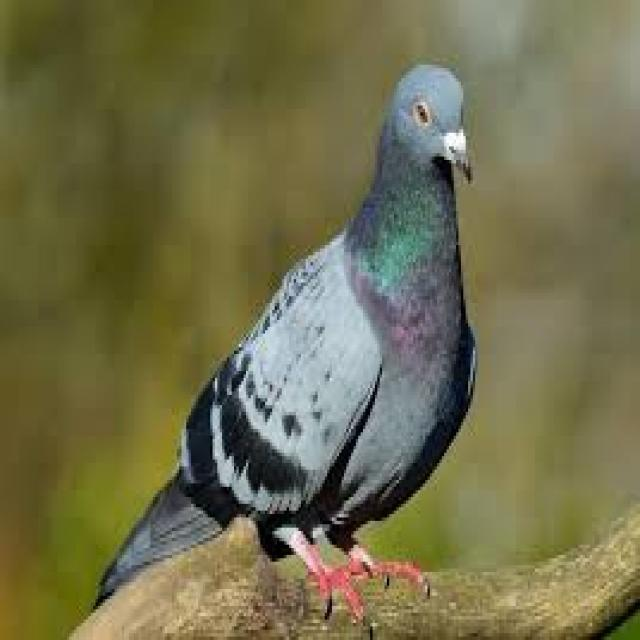bird: (93, 51, 487, 623)
